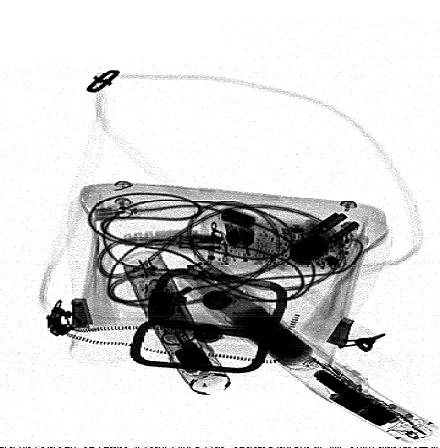Baton: (173, 259, 439, 444), (119, 250, 232, 398)
